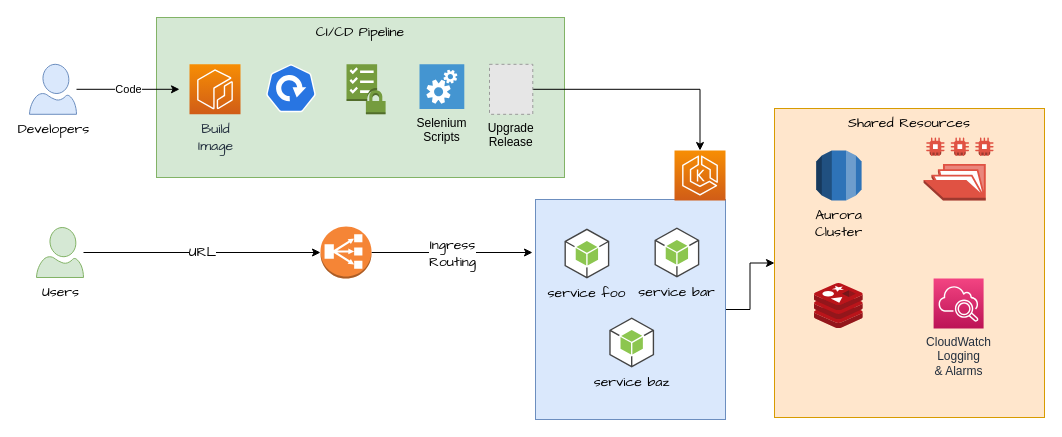
Image size: 1062x437. Some labels were removed from this diagram. Grey dashed boxes stand in for pictures. Here are the shapes that lost their labels. From the top down, the centre of each, then its label:
the point at 290,87: Update Manifest
the point at 366,88: SonarQube Security
the point at 700,175: EKS
the point at 958,168: EFS MultiAZ
the point at 346,252: ALB + WAF
the point at 838,305: ElastiCache Cluster
